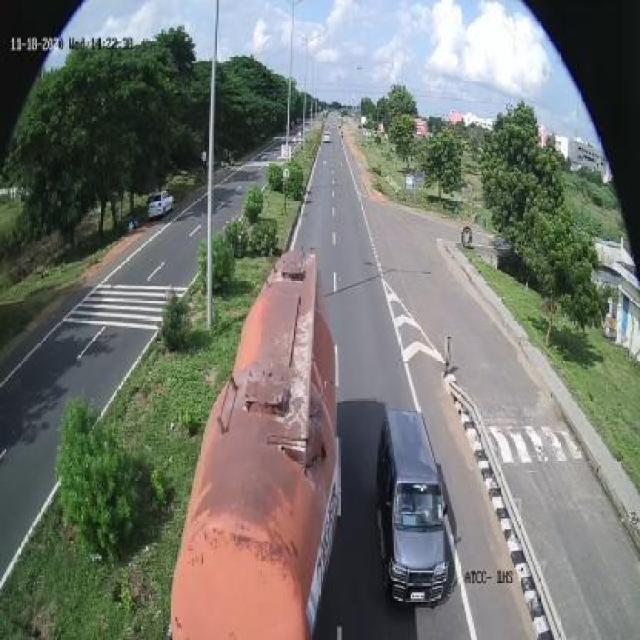car: (369, 408, 454, 610)
